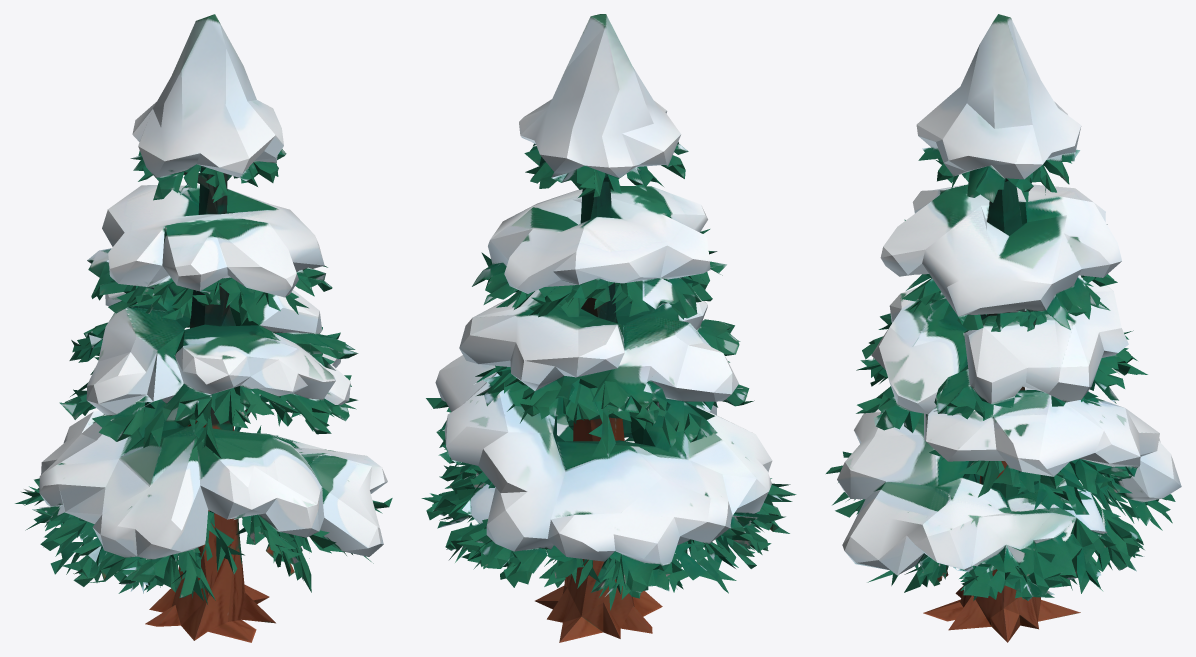
Rendered from pine_tree.glb.
3 views of the same model, side by side, from view 1: azimuth 30°, elevation 25°; view 2: azimuth 150°, elevation 25°; view 3: azimuth 270°, elevation 25° (orthographic).
Size of the model in its own units: 1.08 by 1.9 by 1.03.
1 material, 1 textured.
